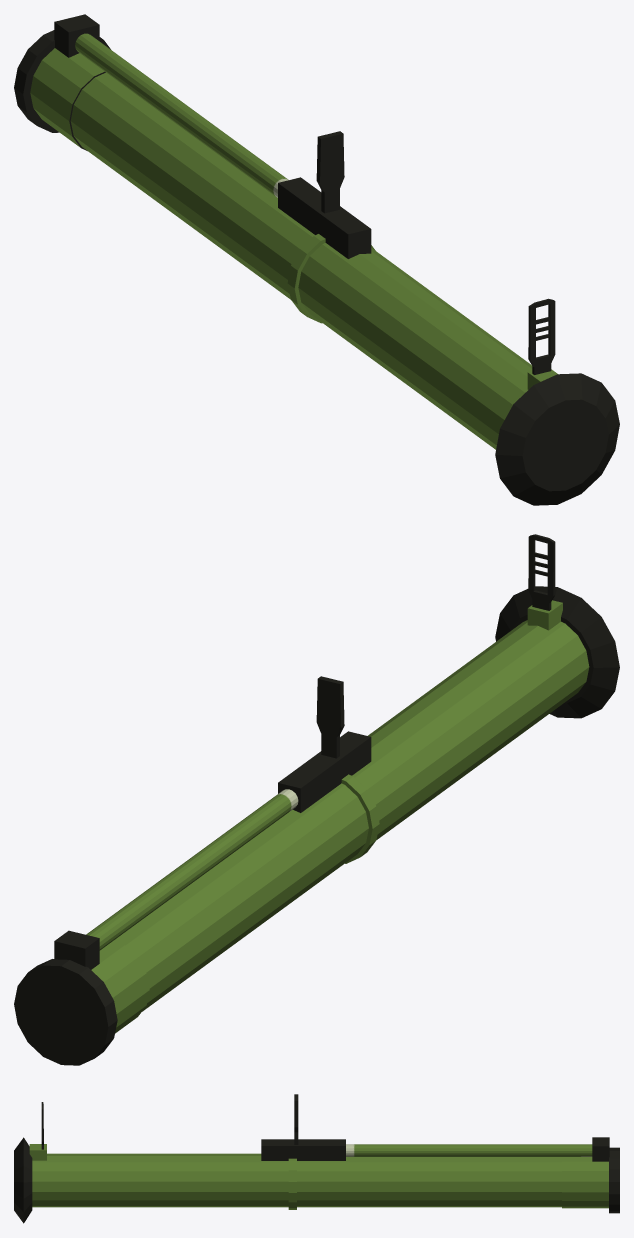
File: RoLa 1.fbx
3 renders of one model, top to bottom at view 1: azimuth 30°, elevation 25°; view 2: azimuth 150°, elevation 25°; view 3: azimuth 270°, elevation 25°, orthographic. The views are drawn at different scales.
Parts seen in each view (by area): view 1: Cylinder.001; view 2: Cylinder.001; view 3: Cylinder.001.
Part boxes in pixels (x1,y1,x2,y2): Cylinder.001: (14,14,619,505); Cylinder.001: (14,534,619,1065); Cylinder.001: (14,1094,619,1223).
Size of the model in its own units: 20.01 by 31.19 by 140.
Materials: 1 (1 with a texture image).
